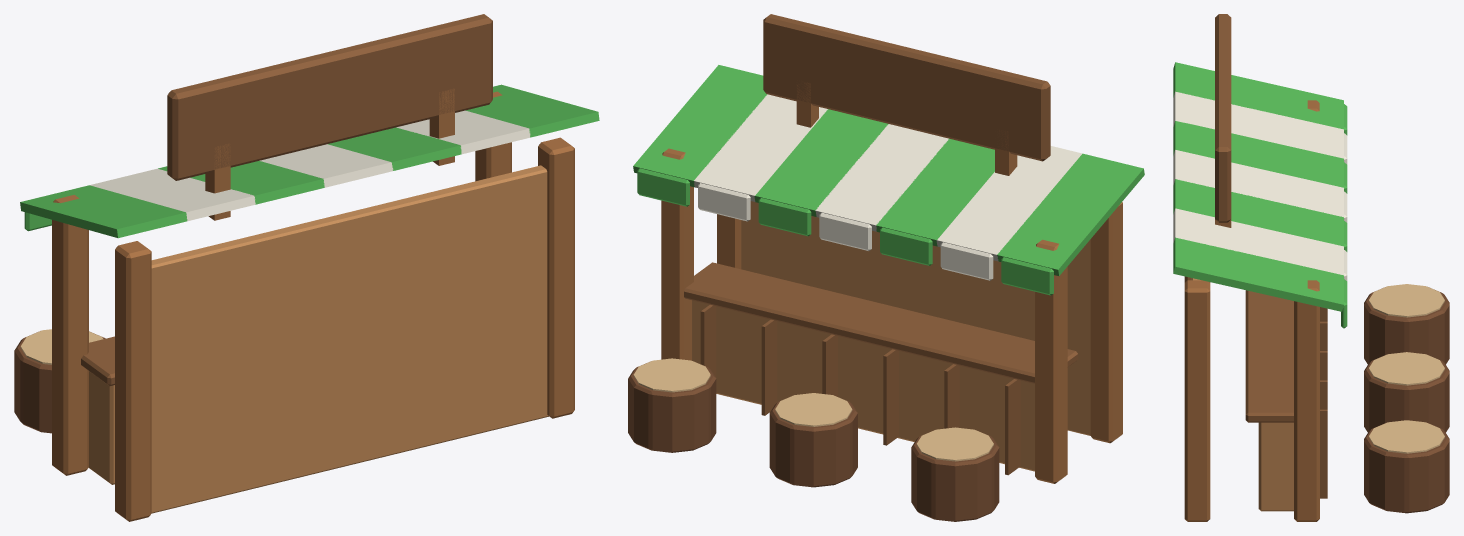
File: bag_stand.glb
The picture shows the model from 3 angles, left to right: view 1: azimuth 30°, elevation 25°; view 2: azimuth 150°, elevation 25°; view 3: azimuth 270°, elevation 25°; orthographic projection. The views are drawn at different scales.
Visible parts, largest first — view 1: WoodPlanks__C48C58, WoodPlanks__8C5E3A, Wood__A87042, Fabric__5ABE5A, Fabric__F5F0E1, Wood__7A5034, Wood__DEBC8C; view 2: WoodPlanks__8C5E3A, WoodPlanks__C48C58, Fabric__5ABE5A, Fabric__F5F0E1, Wood__A87042, Wood__7A5034, Wood__DEBC8C; view 3: Fabric__5ABE5A, Fabric__F5F0E1, Wood__7A5034, Wood__A87042, WoodPlanks__8C5E3A, Wood__DEBC8C, WoodPlanks__C48C58.
Boxes of the visible parts, x1=… form: WoodPlanks__C48C58: x1=88, y1=165, x2=548, y2=513; WoodPlanks__8C5E3A: x1=81, y1=14, x2=492, y2=385; Wood__A87042: x1=52, y1=88, x2=574, y2=521; Fabric__5ABE5A: x1=20, y1=84, x2=599, y2=238; Fabric__F5F0E1: x1=90, y1=110, x2=530, y2=221; Wood__7A5034: x1=14, y1=331, x2=105, y2=433; Wood__DEBC8C: x1=20, y1=329, x2=103, y2=364; WoodPlanks__8C5E3A: x1=684, y1=14, x2=1078, y2=475; WoodPlanks__C48C58: x1=692, y1=201, x2=1090, y2=471; Fabric__5ABE5A: x1=633, y1=65, x2=1144, y2=295; Fabric__F5F0E1: x1=694, y1=94, x2=1082, y2=280; Wood__A87042: x1=661, y1=80, x2=1122, y2=483; Wood__7A5034: x1=628, y1=361, x2=999, y2=521; Wood__DEBC8C: x1=633, y1=358, x2=993, y2=461; Fabric__5ABE5A: x1=1173, y1=62, x2=1347, y2=328; Fabric__F5F0E1: x1=1173, y1=91, x2=1347, y2=280; Wood__7A5034: x1=1364, y1=287, x2=1449, y2=513; Wood__A87042: x1=1184, y1=100, x2=1319, y2=521; WoodPlanks__8C5E3A: x1=1215, y1=14, x2=1327, y2=498; Wood__DEBC8C: x1=1369, y1=284, x2=1444, y2=453; WoodPlanks__C48C58: x1=1191, y1=278, x2=1293, y2=511.
Size of the model in its own units: 15.02 by 11.9 by 8.58.
